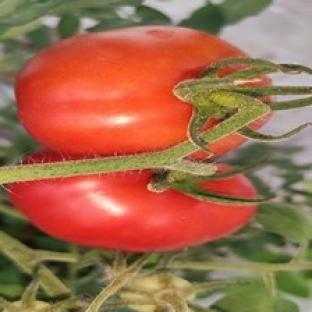Tomato: (16, 26, 246, 154), (9, 170, 256, 252)
